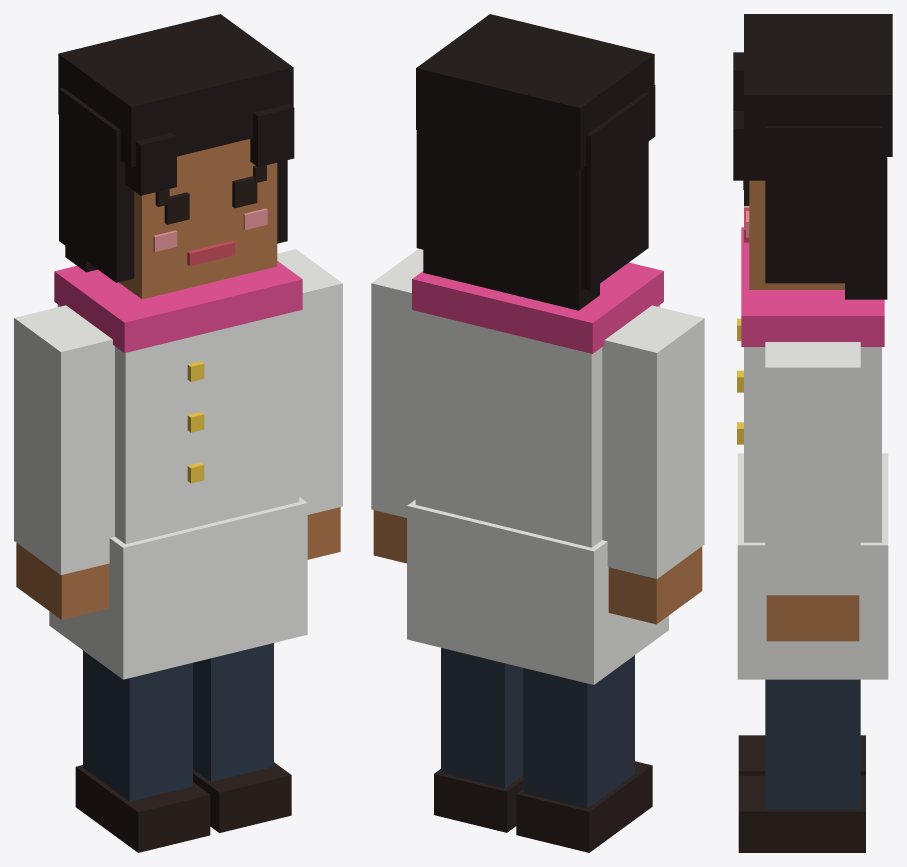
Rendered from science_teacher.glb.
3 renders of one model, left to right at view 1: azimuth 30°, elevation 25°; view 2: azimuth 150°, elevation 25°; view 3: azimuth 270°, elevation 25°, orthographic. The views are drawn at different scales.
Parts seen in each view (by area): view 1: Box9, Box10, Box7, Box27, Box17, Box5, Box11, Box30, Box3, Box1, Box6, Box2 (+8 smaller); view 2: Box9, Box10, Box7, Box27, Box32, Box5, Box11, Box3, Box30, Box1, Box6, Box8 (+3 smaller); view 3: Box3, Box28, Box27, Box10, Box1, Box9, Box11, Box2, Box4, Box17, Box32, Box6 (+2 smaller).
Boxes of the visible parts, x1,y1,x2,y2 form: Box9: [57, 304, 299, 544]; Box10: [49, 497, 307, 679]; Box7: [14, 305, 114, 574]; Box27: [58, 14, 293, 167]; Box17: [119, 139, 277, 299]; Box5: [83, 650, 192, 801]; Box11: [54, 261, 302, 352]; Box30: [59, 88, 134, 282]; Box3: [277, 249, 342, 514]; Box1: [193, 643, 273, 781]; Box6: [75, 765, 210, 852]; Box2: [193, 762, 291, 832]; Box9: [415, 305, 660, 547]; Box10: [407, 500, 668, 684]; Box7: [602, 305, 704, 578]; Box27: [416, 14, 654, 169]; Box32: [423, 131, 599, 310]; Box5: [523, 655, 634, 808]; Box11: [412, 262, 663, 353]; Box3: [371, 248, 423, 517]; Box30: [581, 93, 648, 290]; Box1: [441, 648, 523, 788]; Box6: [516, 761, 652, 852]; Box8: [608, 546, 702, 624]; Box3: [765, 342, 860, 595]; Box28: [765, 126, 881, 283]; Box27: [744, 14, 892, 156]; Box10: [737, 453, 888, 679]; Box1: [765, 679, 860, 809]; Box9: [744, 347, 881, 542]; Box11: [741, 227, 884, 346]; Box2: [738, 775, 865, 852]; Box4: [766, 595, 859, 641]; Box17: [749, 180, 844, 289]; Box32: [845, 157, 887, 299]; Box6: [738, 735, 865, 775].
Size of the model in its own units: 0.7088 by 1.79 by 0.3402.
